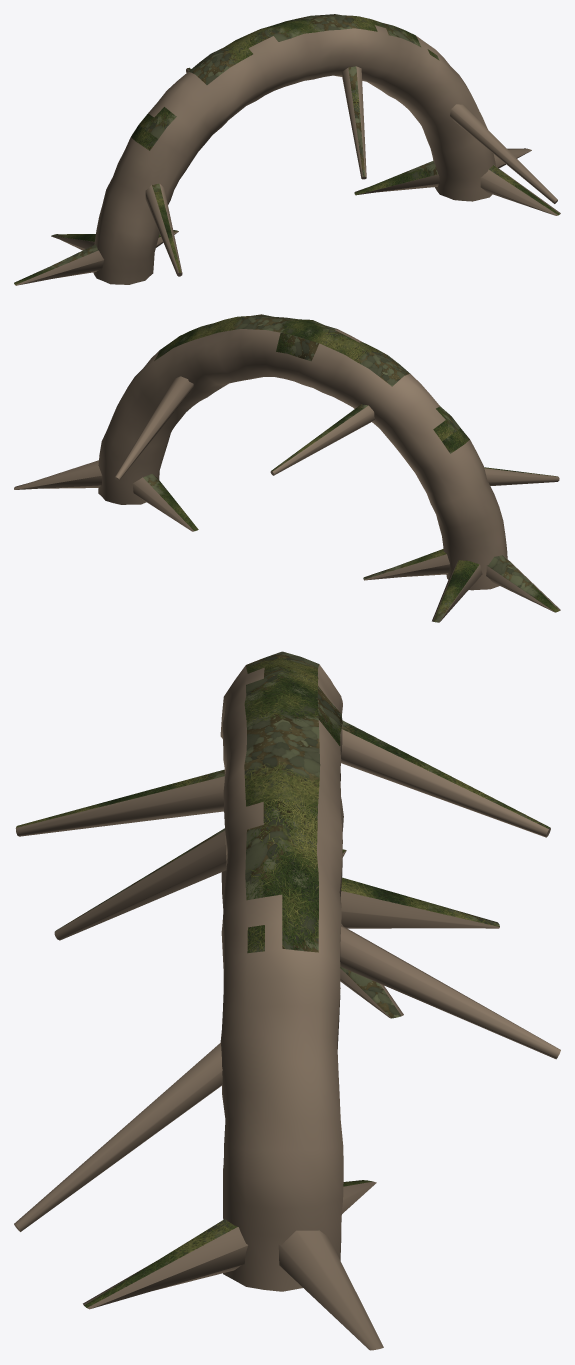
File: root-arch-v01.glb
3 renders of one model, top to bottom at view 1: azimuth 30°, elevation 25°; view 2: azimuth 150°, elevation 25°; view 3: azimuth 270°, elevation 25°, orthographic. The views are drawn at different scales.
Visible parts, largest first — view 1: root-arch; view 2: root-arch; view 3: root-arch.
Boxes of the visible parts, x1,y1,x2,y2 form: root-arch: (14,14,560,285); root-arch: (14,314,560,622); root-arch: (14,651,560,1350).
Size of the model in its own units: 4.29 by 1.62 by 1.98.
2 materials, 1 textured.
